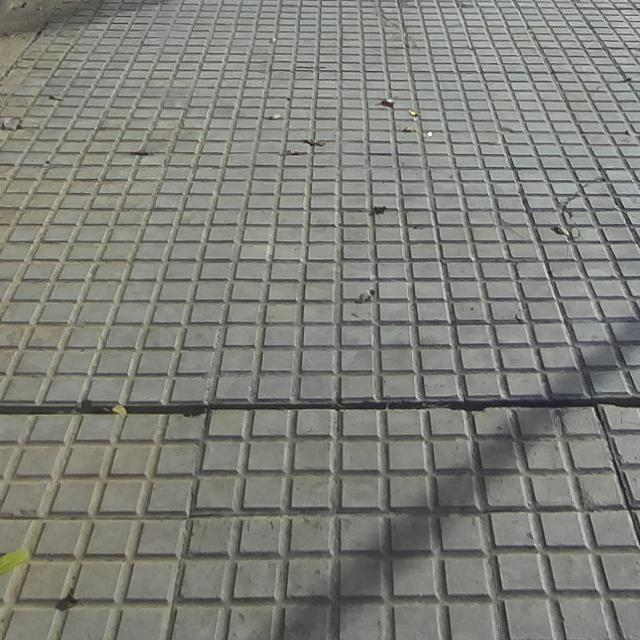calcada_quebrada: (559, 180, 595, 219)
